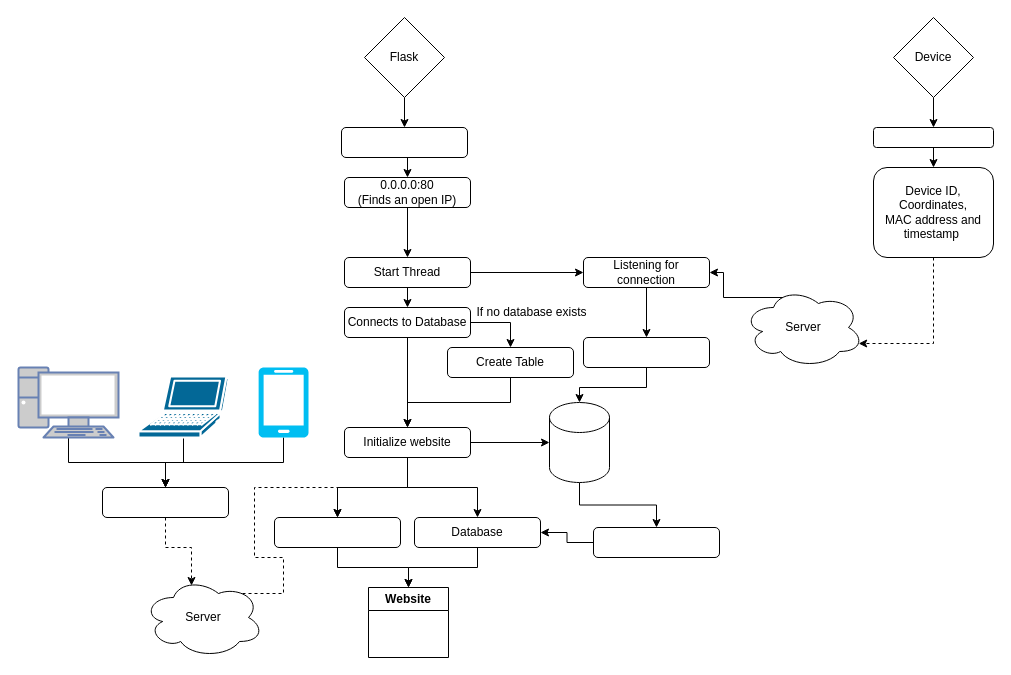
Image size: 1011x675. Some labels were removed from this diagram. The centre of each missing label's shape, as x and y in pixels:
"Alarm activated" goes at (933,137).
"Create Log" goes at (656,542).
"DB" goes at (579,442).
"GPS" goes at (337,532).
"https//(IP):80" goes at (165,502).
"INSERT INTO" goes at (646,352).
"Run" goes at (404,142).
